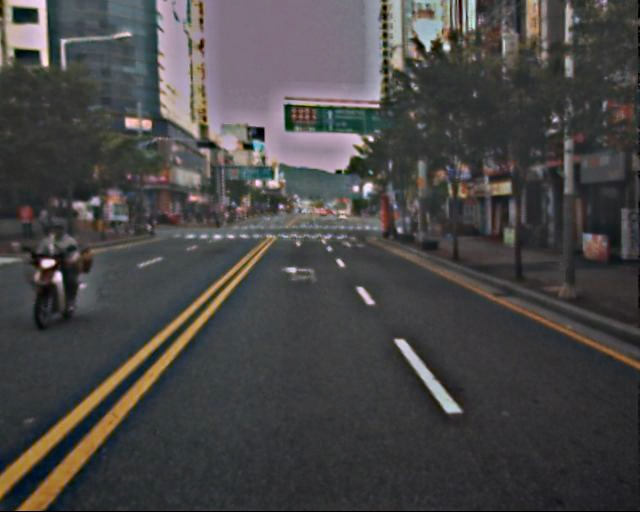person: (44, 215, 103, 308), (20, 198, 47, 240), (39, 201, 67, 238)
